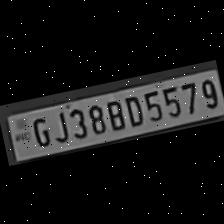3: (64, 102, 90, 139)
5: (156, 81, 182, 118), (139, 86, 164, 122)
7: (176, 78, 200, 114)
8: (82, 98, 108, 135)
9: (195, 74, 220, 110)
B: (101, 95, 127, 131)
D: (119, 90, 146, 127)
G: (26, 112, 52, 148)
J: (48, 106, 72, 142)
